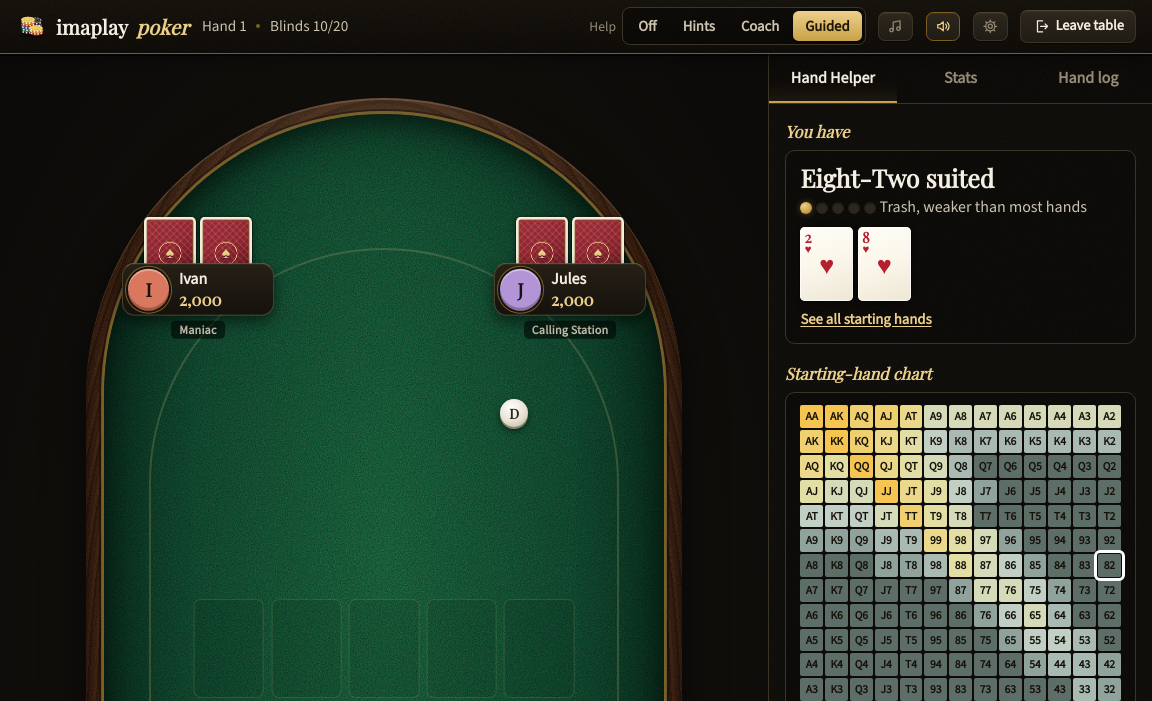
Scenario: UI renders › switches side panel tabs
Click the tab "Stats".
click(961, 78)  # box [897,54,1024,103]
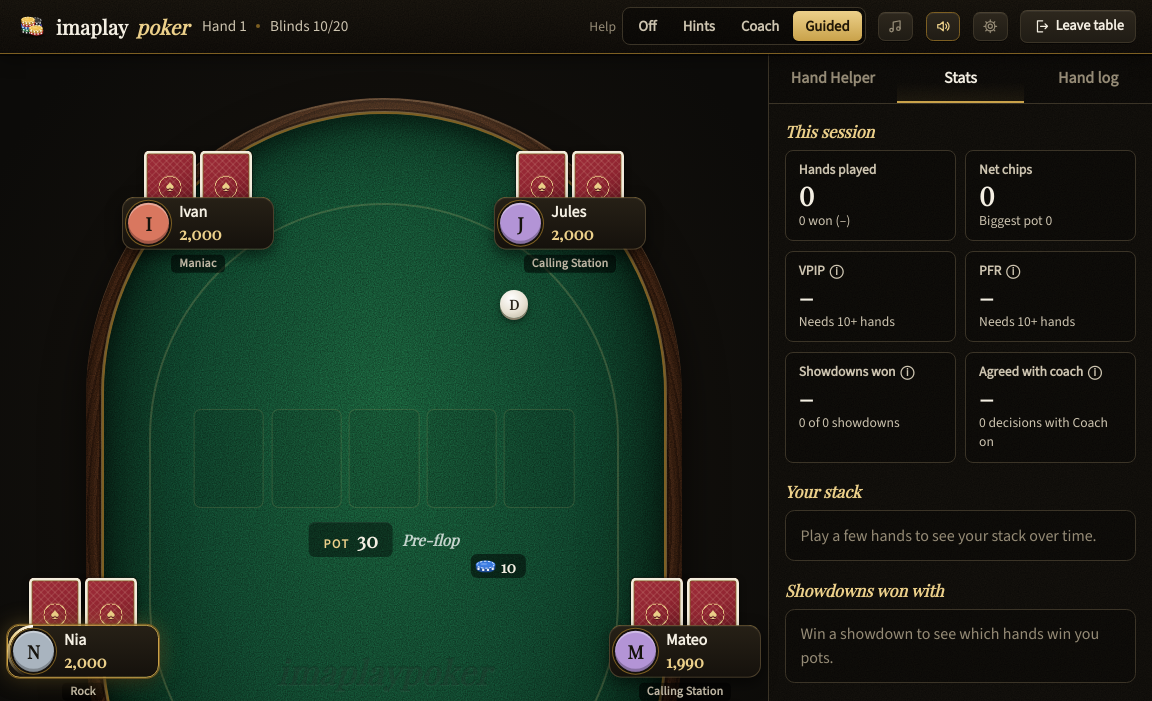
Check: the text "VPIP" is shown, box [799,261,825,279]
Click the tab "Hand log".
click(1088, 78)  # box [1024,54,1151,103]
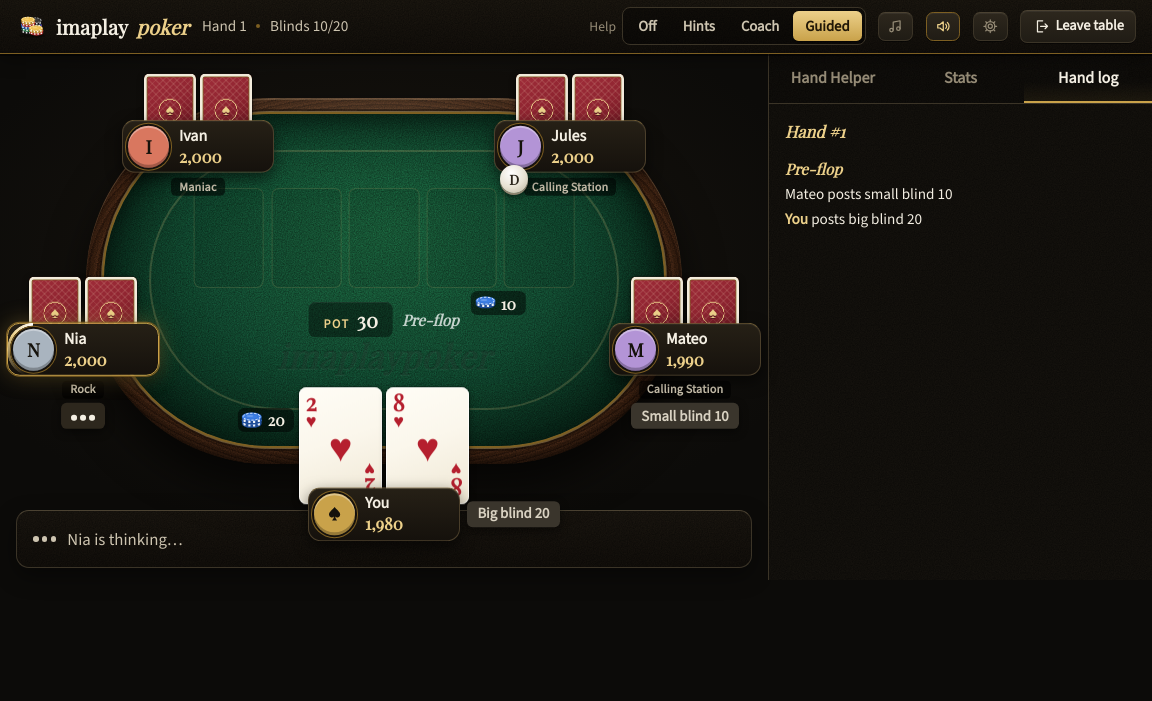
Check: the text "posts small blind" is shown, box [785,184,953,204]
